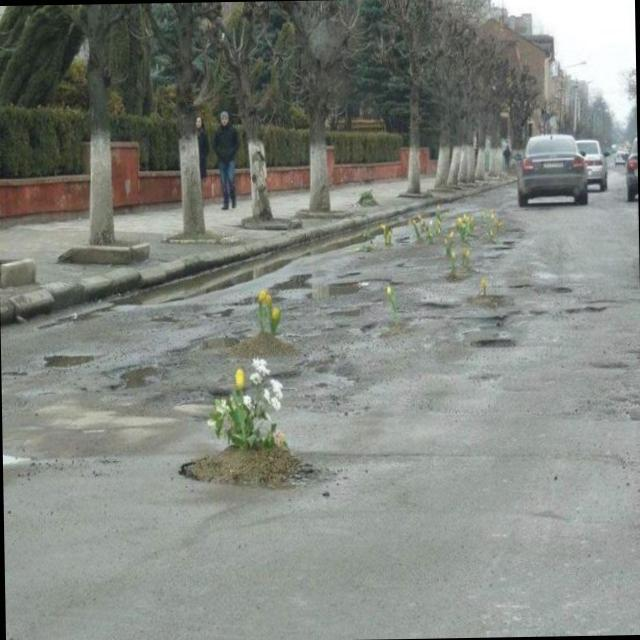Pothole: (286, 359, 356, 393), (321, 272, 384, 298), (360, 314, 412, 343), (40, 347, 94, 374), (114, 358, 160, 388), (466, 332, 520, 352), (561, 300, 613, 320), (176, 392, 218, 416), (189, 332, 243, 348), (421, 294, 449, 316), (553, 284, 570, 294)
